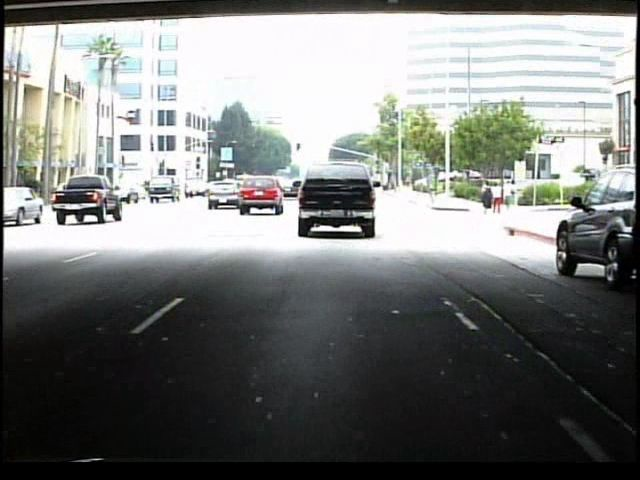person: (505, 178, 520, 216), (479, 179, 494, 216), (493, 181, 505, 215)
